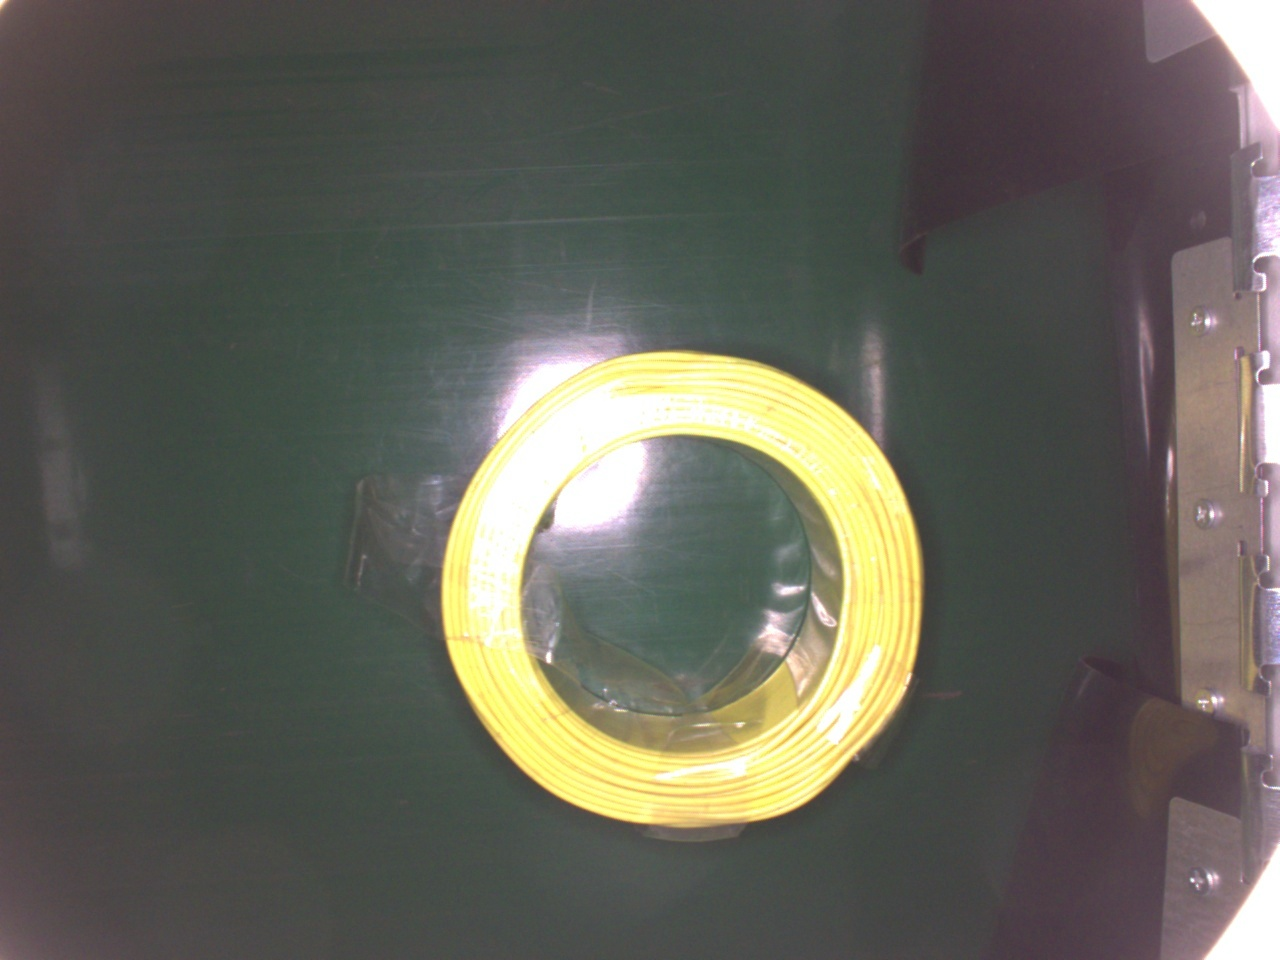yellow: (440, 350, 924, 832)
